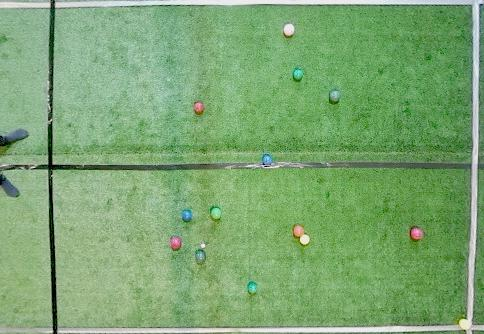blue: (182, 210, 192, 222), (262, 155, 272, 165)
green: (210, 207, 222, 220), (329, 90, 341, 103), (195, 250, 206, 263), (247, 282, 258, 295), (293, 69, 303, 81)
red: (410, 227, 423, 239), (170, 236, 181, 249), (283, 24, 294, 36), (293, 225, 304, 236), (194, 102, 204, 114)
vline: (1, 1, 60, 333), (464, 1, 483, 319)
white: (200, 242, 206, 249)
yellow: (459, 318, 471, 330), (300, 234, 310, 245)
